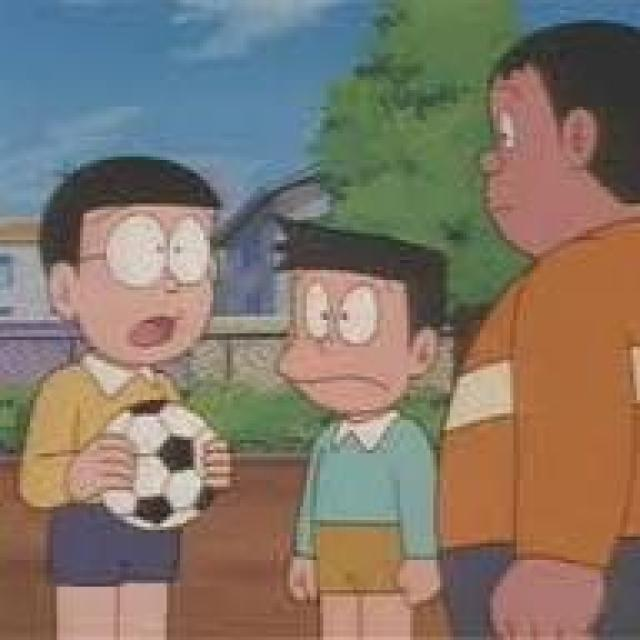jaian: (476, 17, 636, 263)
nobita: (34, 147, 224, 370)
suneo: (260, 204, 447, 424)
